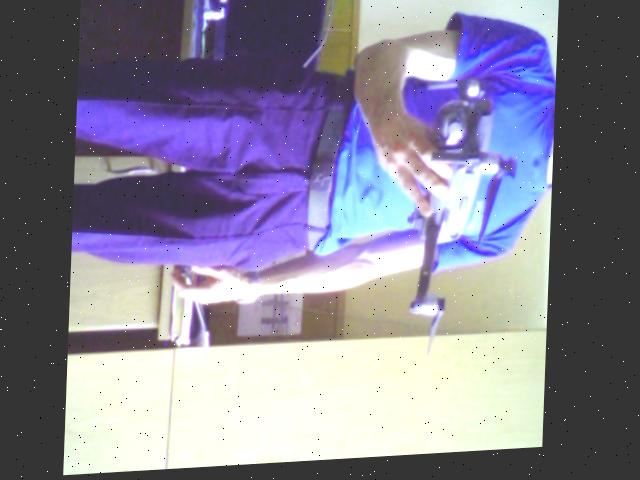drone: (395, 62, 527, 350)
